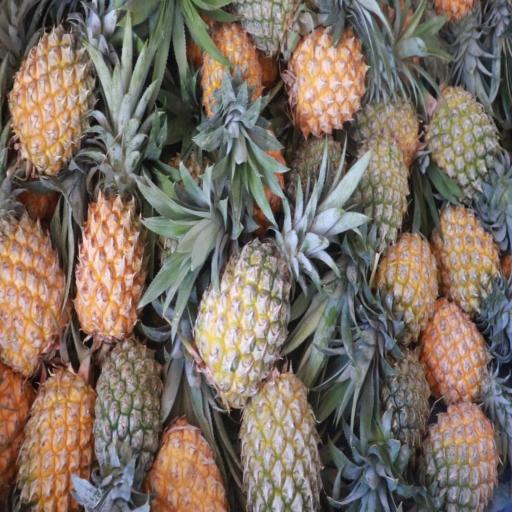------------------------------: (196, 244, 288, 400), (242, 366, 316, 512)
Pineapple - v8 v1: (10, 31, 93, 168), (18, 367, 94, 512), (74, 194, 144, 349), (0, 204, 65, 366), (291, 33, 368, 132), (433, 203, 496, 318), (426, 300, 492, 403), (149, 420, 221, 512), (380, 229, 435, 340), (200, 28, 260, 124)
